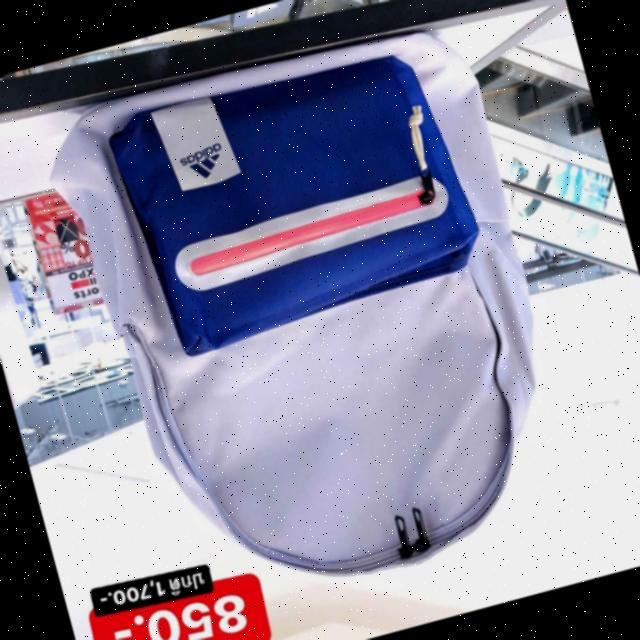Handbag: (34, 2, 595, 628)
